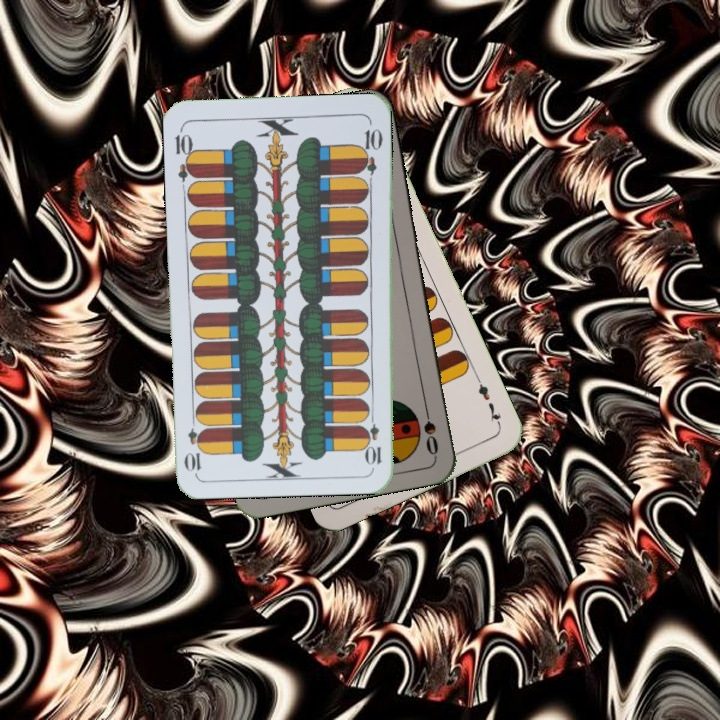E10: (171, 124, 198, 183), (364, 408, 384, 468)
E7: (472, 373, 504, 429)
SO: (419, 399, 441, 458)
